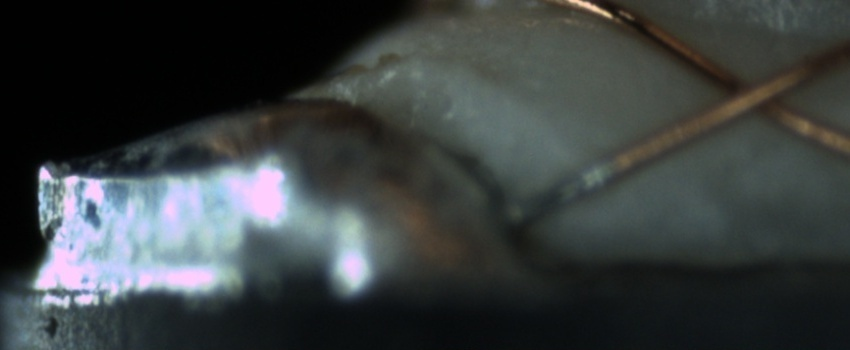CL: (697, 53, 799, 127)
TS: (507, 155, 617, 226)
TTCW: (505, 140, 637, 226)
